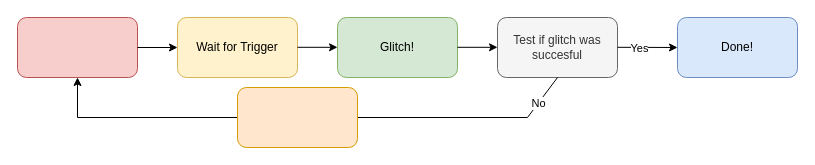
This 815x165 diagram has some shape labels left out. Here are the shapes that lost their labels. From the top down, the centre of each, then its label:
the point at 77,47: Reset Target
the point at 297,117: Update glitch parameters
